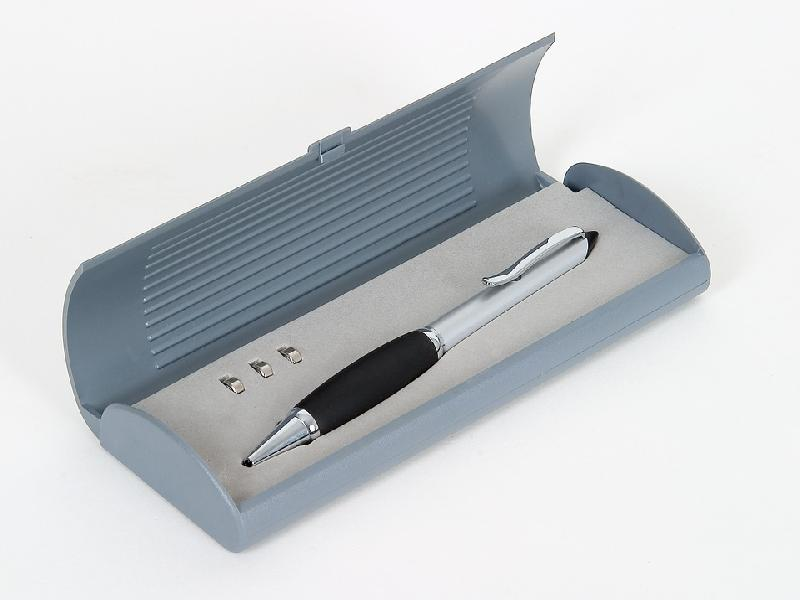pen: (241, 214, 605, 505)
